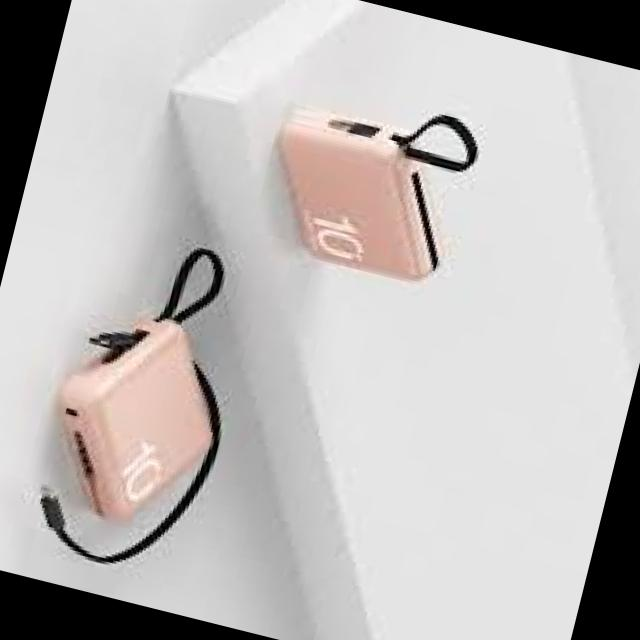power_bank: (22, 300, 238, 550), (254, 95, 468, 292)
